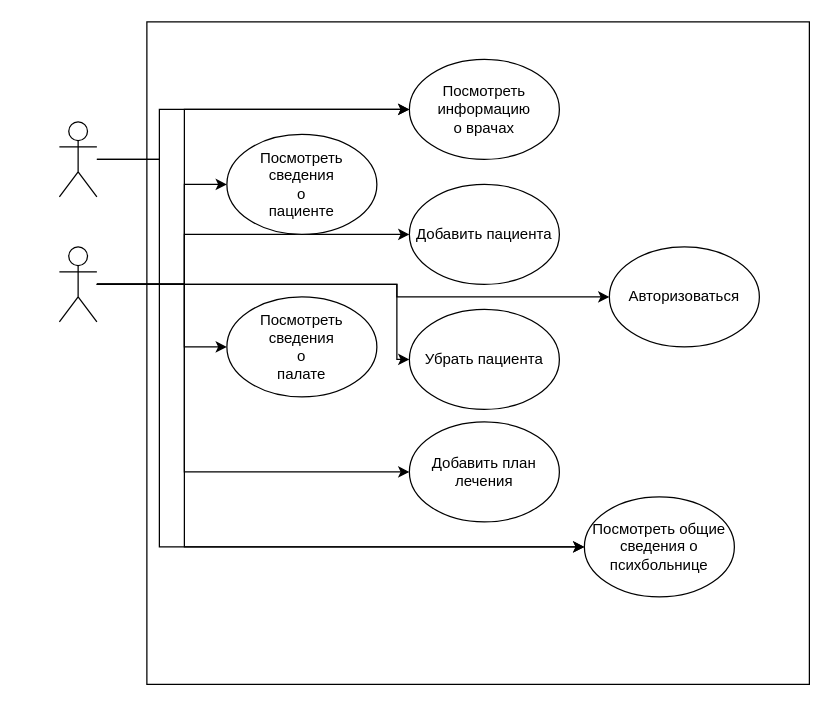
Some shapes in this 831 by 706 pixel diagram are drawn without their labels. Each missing label, with the centre of its shape:
"Doctor" goes at [77,284].
"Not doctor (user)" goes at [77,159].
